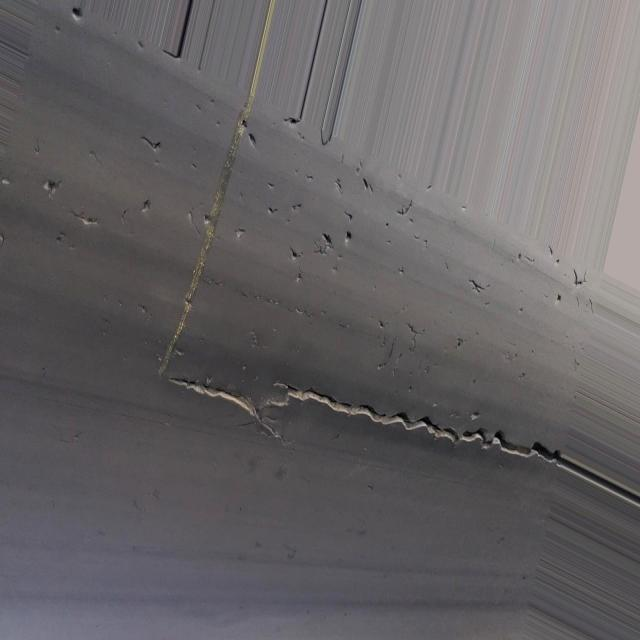Puncture: (233, 107, 268, 154), (36, 171, 66, 200), (66, 0, 90, 28), (316, 226, 338, 252), (356, 172, 378, 196), (281, 242, 305, 264), (196, 206, 218, 227), (135, 192, 155, 214), (372, 314, 392, 332), (343, 226, 358, 248), (233, 222, 249, 242), (554, 289, 566, 308)
Tear: (175, 332, 640, 520), (136, 0, 294, 392), (460, 267, 494, 302), (570, 262, 590, 298), (138, 132, 164, 153)
